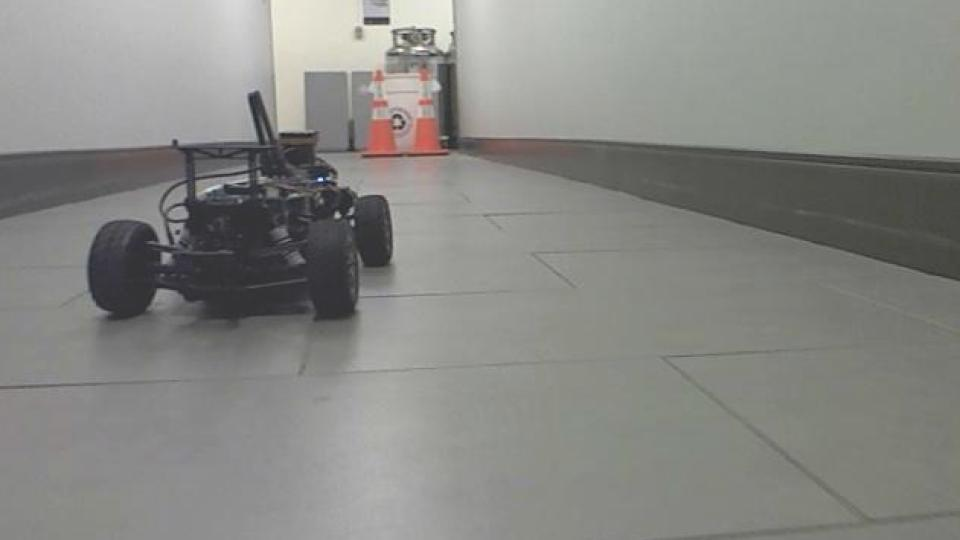car: (82, 88, 396, 325)
